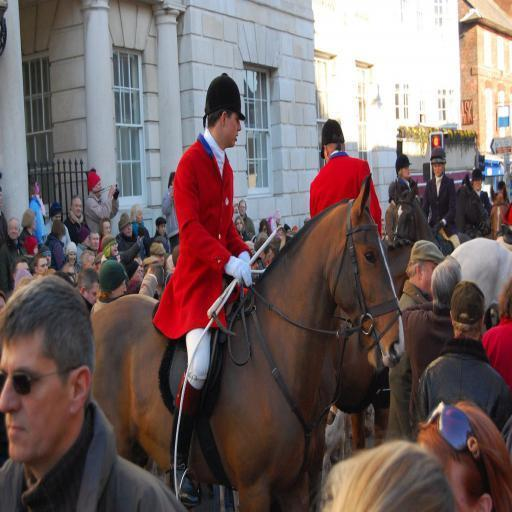horse: (88, 173, 512, 512)
